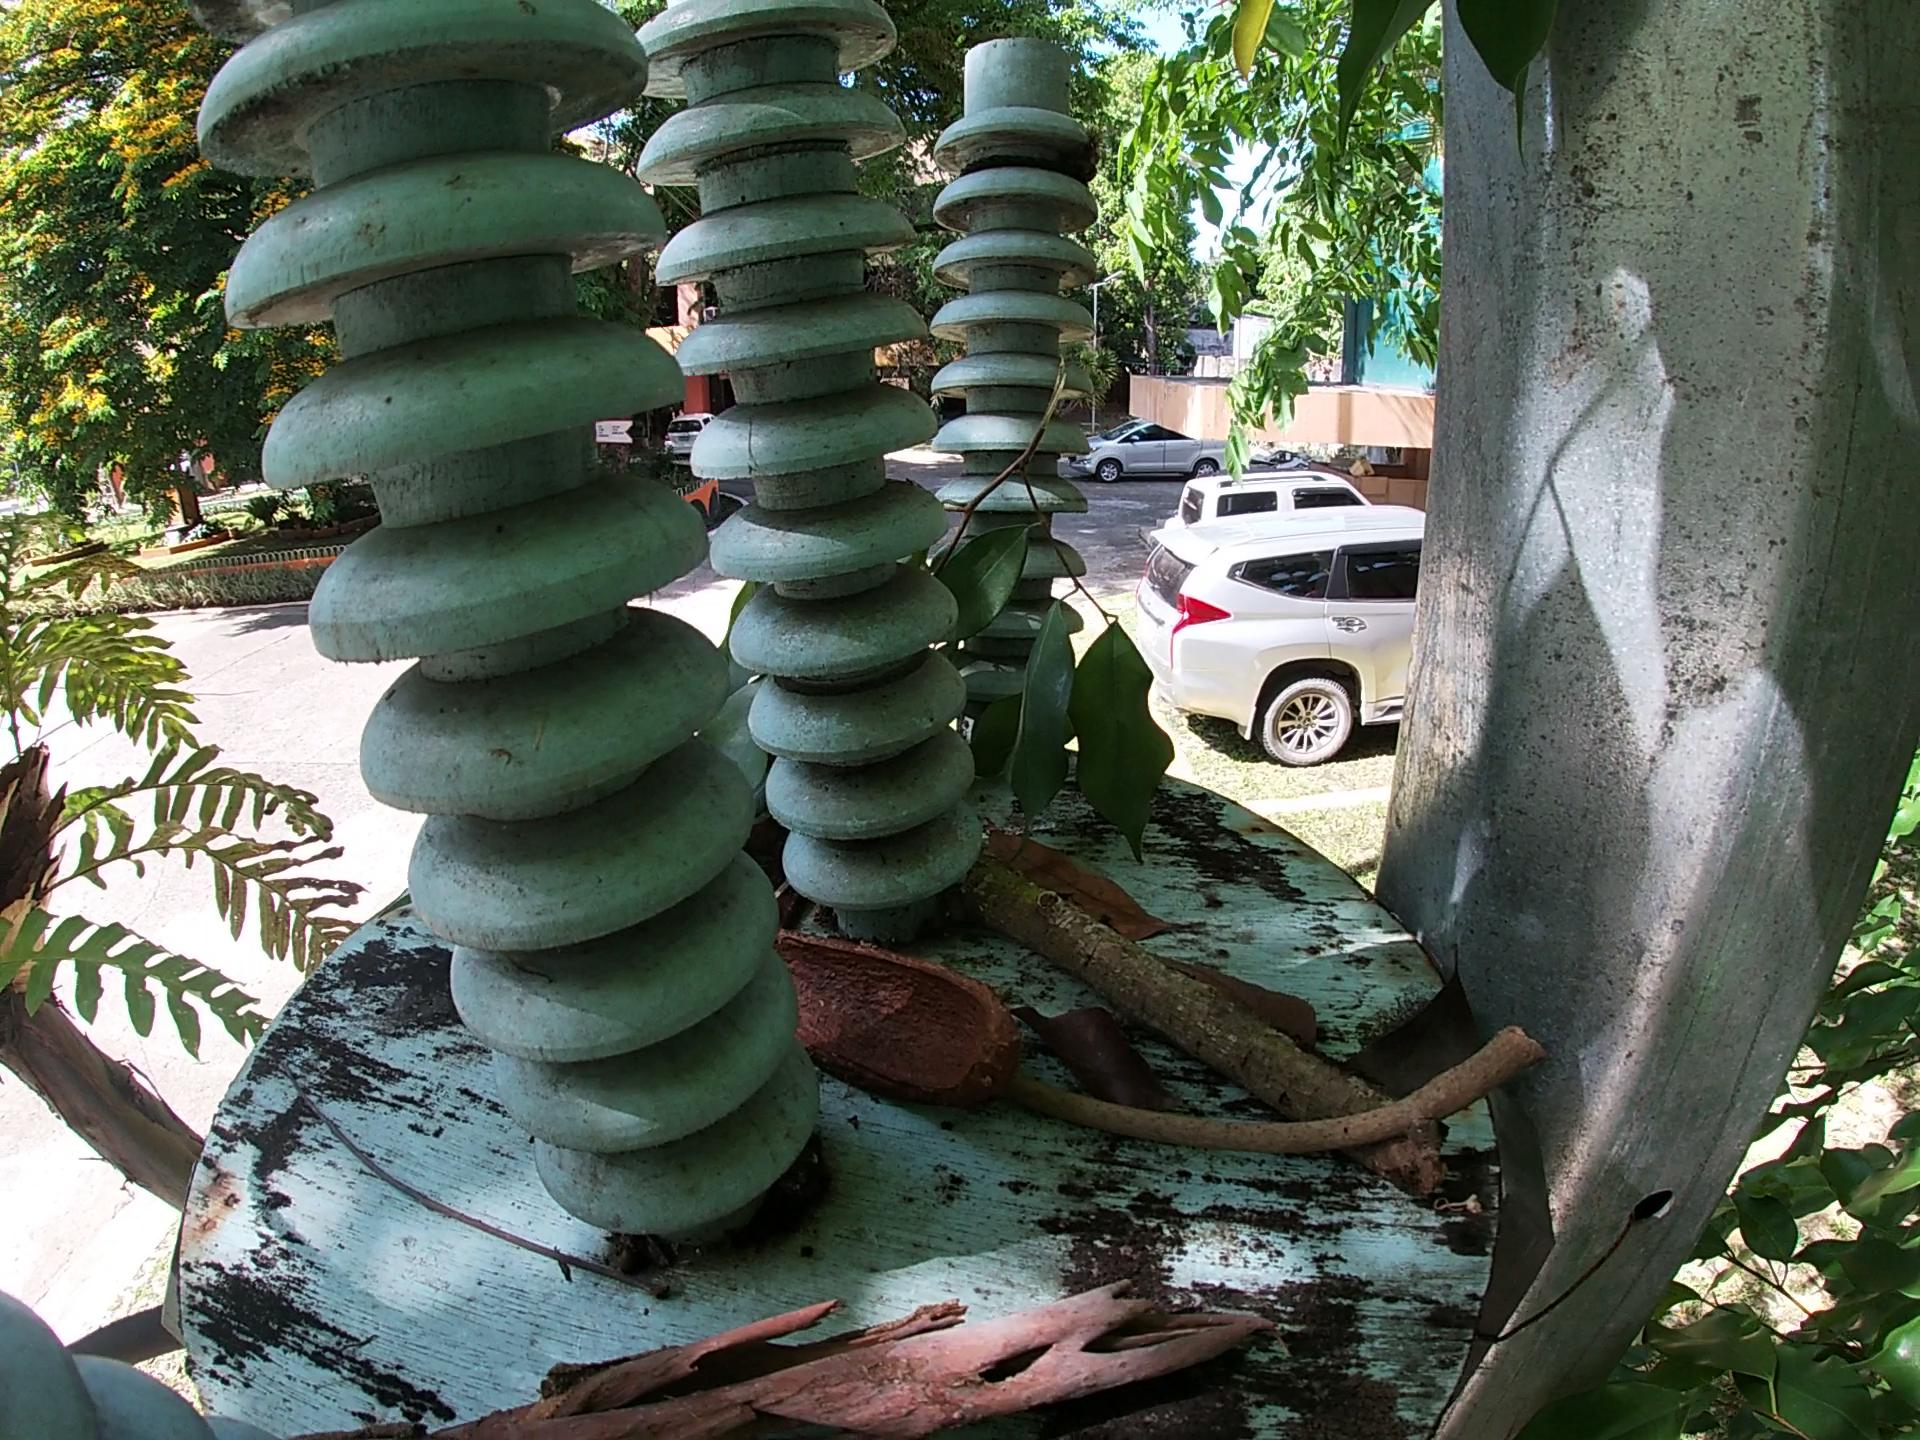branch with leaves: (921, 365, 1197, 856)
leaf: (701, 534, 830, 885), (1008, 973, 1209, 1109), (987, 827, 1184, 945), (1150, 951, 1346, 1045)
mahogany fruit: (747, 898, 1011, 1113)
tree branch: (949, 836, 1488, 1203), (376, 1271, 1315, 1440), (255, 1056, 671, 1321), (1014, 1060, 1572, 1169)
